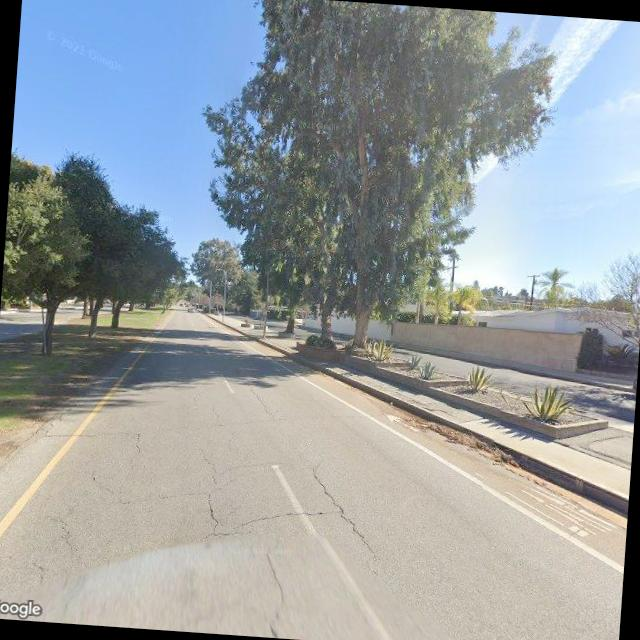crack: (304, 458, 386, 560), (218, 498, 340, 546), (192, 448, 226, 538), (40, 420, 137, 444), (116, 424, 144, 492), (243, 383, 279, 422)
